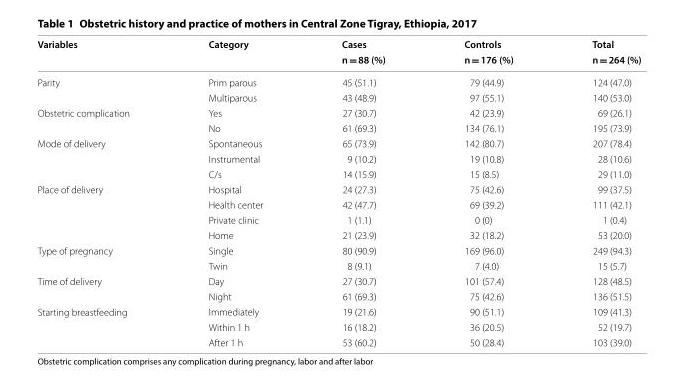table: (36, 37, 640, 347)
table column: (168, 37, 301, 347), (36, 37, 168, 347), (424, 37, 552, 347), (301, 37, 424, 347), (552, 37, 640, 347)
table column header: (36, 37, 640, 74)
table row: (36, 51, 640, 74), (36, 104, 640, 120), (36, 150, 640, 166), (36, 211, 640, 227), (36, 257, 640, 273), (36, 303, 640, 319), (36, 74, 640, 89), (36, 89, 640, 104), (36, 120, 640, 135), (36, 135, 640, 150), (36, 166, 640, 181), (36, 181, 640, 196), (36, 196, 640, 211), (36, 227, 640, 242), (36, 242, 640, 257), (36, 273, 640, 288), (36, 288, 640, 303), (36, 319, 640, 334), (36, 37, 640, 51), (36, 334, 640, 347)
table spanning cell: (36, 181, 168, 242), (36, 135, 168, 181), (36, 303, 168, 347), (168, 37, 301, 74), (36, 37, 168, 74), (424, 37, 552, 74), (301, 37, 424, 74), (36, 104, 168, 135), (36, 242, 168, 273), (36, 74, 168, 104), (36, 273, 168, 303), (552, 37, 640, 74)
